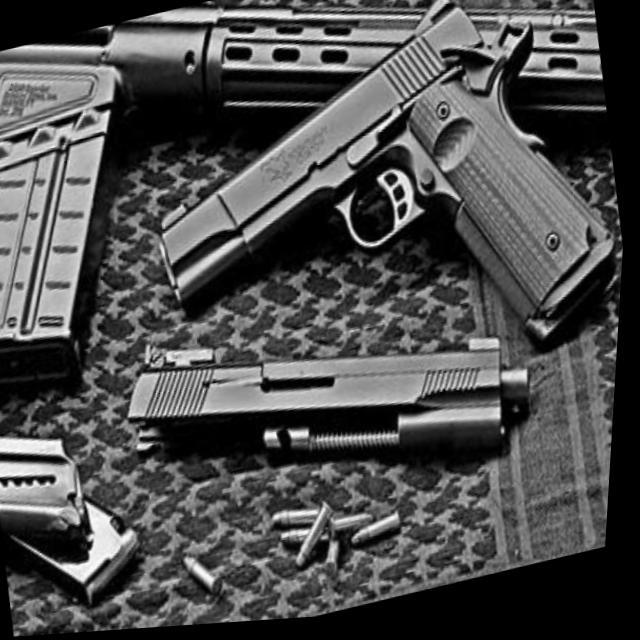weapon: (0, 0, 636, 383), (119, 0, 640, 439), (114, 261, 552, 544), (0, 368, 162, 625)
